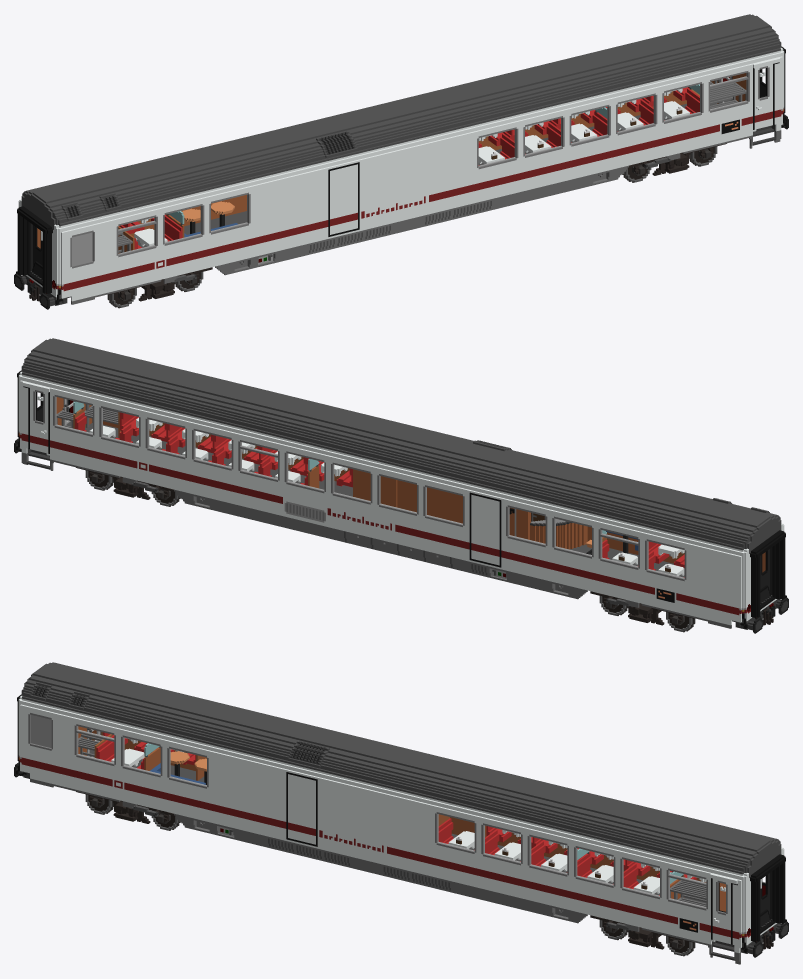
The picture shows the model from 3 angles, top to bottom: view 1: azimuth 30°, elevation 25°; view 2: azimuth 150°, elevation 25°; view 3: azimuth 330°, elevation 25°; orthographic projection.
Visible parts, largest first — view 1: FRAME, BOGEY_FRONT, BOGEY_REAR; view 2: FRAME, BOGEY_FRONT, BOGEY_REAR; view 3: FRAME, BOGEY_REAR, BOGEY_FRONT.
Part boxes in pixels (x1=…): FRAME: x1=14, y1=14, x2=788, y2=309; BOGEY_FRONT: x1=108, y1=267, x2=212, y2=301; BOGEY_REAR: x1=627, y1=143, x2=726, y2=175; FRAME: x1=14, y1=338, x2=788, y2=633; BOGEY_FRONT: x1=590, y1=591, x2=694, y2=625; BOGEY_REAR: x1=76, y1=467, x2=175, y2=499; FRAME: x1=14, y1=662, x2=788, y2=964; BOGEY_REAR: x1=590, y1=915, x2=694, y2=949; BOGEY_FRONT: x1=76, y1=791, x2=175, y2=823.
Size of the model in its own units: 28 by 4.31 by 2.88.
Materials: 1 (1 with a texture image).
